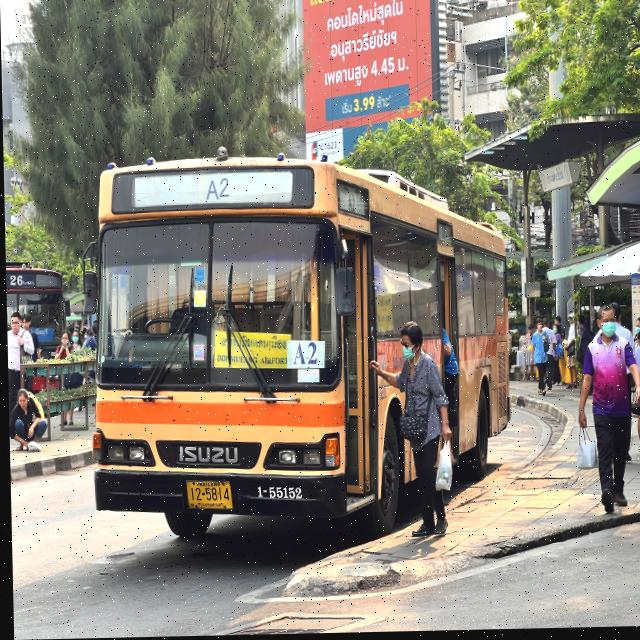BMTA-bus: (86, 152, 512, 545)
Bus-Line-Number: (200, 172, 236, 207)
Destination-Sign-Normal-Expressway: (214, 332, 290, 372)
